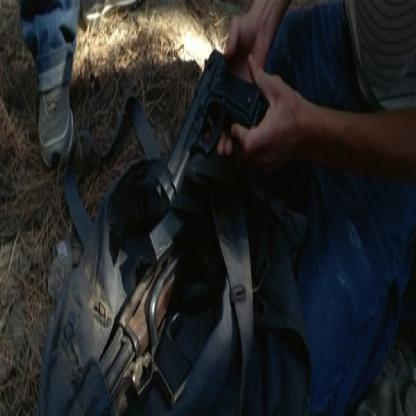Gun: (90, 214, 224, 414), (152, 44, 265, 201)
